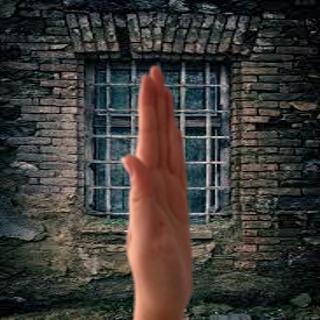Right: (115, 61, 204, 301)
